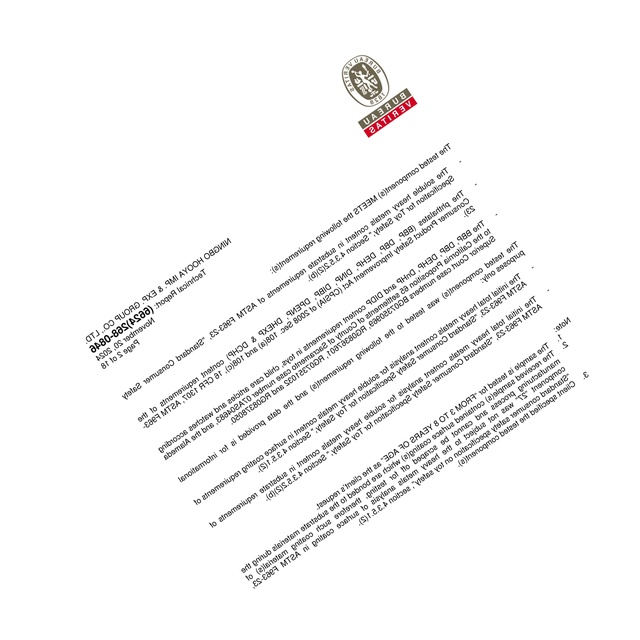bureau_veritas: (341, 52, 419, 140)
